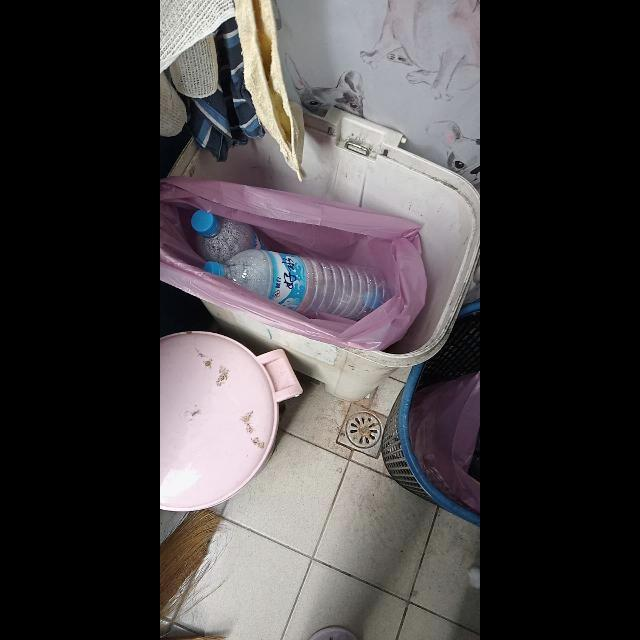plastic_bottle: (203, 249, 391, 321), (191, 210, 265, 264)
